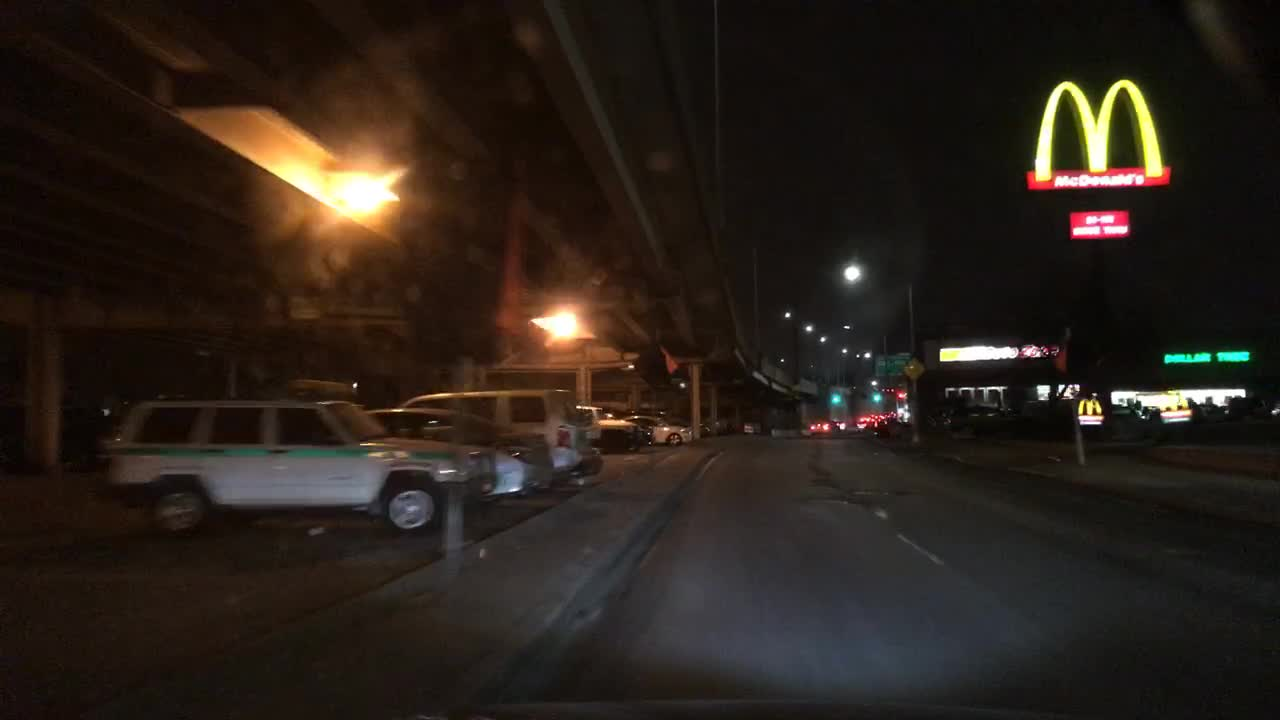car: (98, 377, 493, 534), (373, 401, 555, 501), (403, 389, 589, 477), (580, 408, 637, 453), (625, 416, 691, 446), (287, 383, 352, 399), (939, 405, 996, 420), (1115, 403, 1145, 418), (809, 419, 830, 434), (694, 421, 712, 438), (1203, 405, 1227, 414), (712, 421, 725, 434), (830, 418, 843, 429), (856, 416, 866, 428), (871, 418, 883, 425)
traffic light: (871, 390, 883, 406), (832, 391, 839, 405)
traffic sign: (872, 352, 911, 379), (908, 360, 922, 382)
